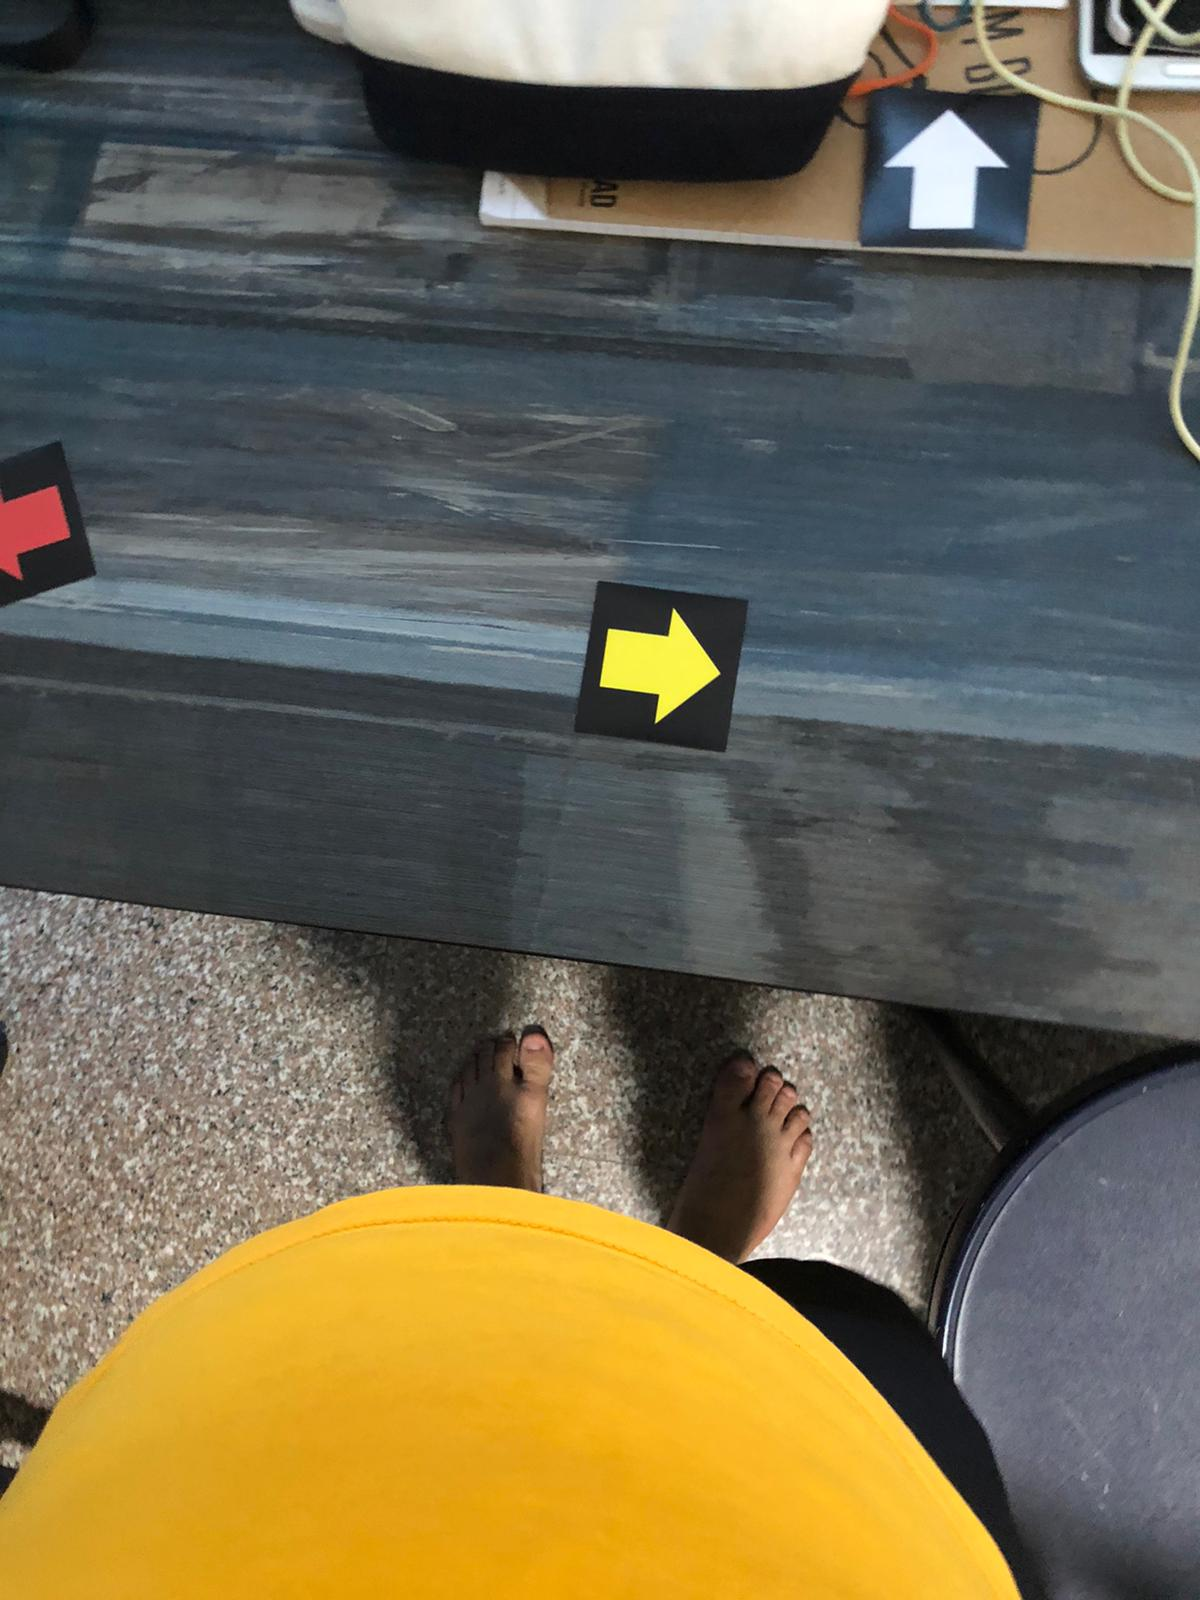Right Arrow: (597, 588, 735, 736)
